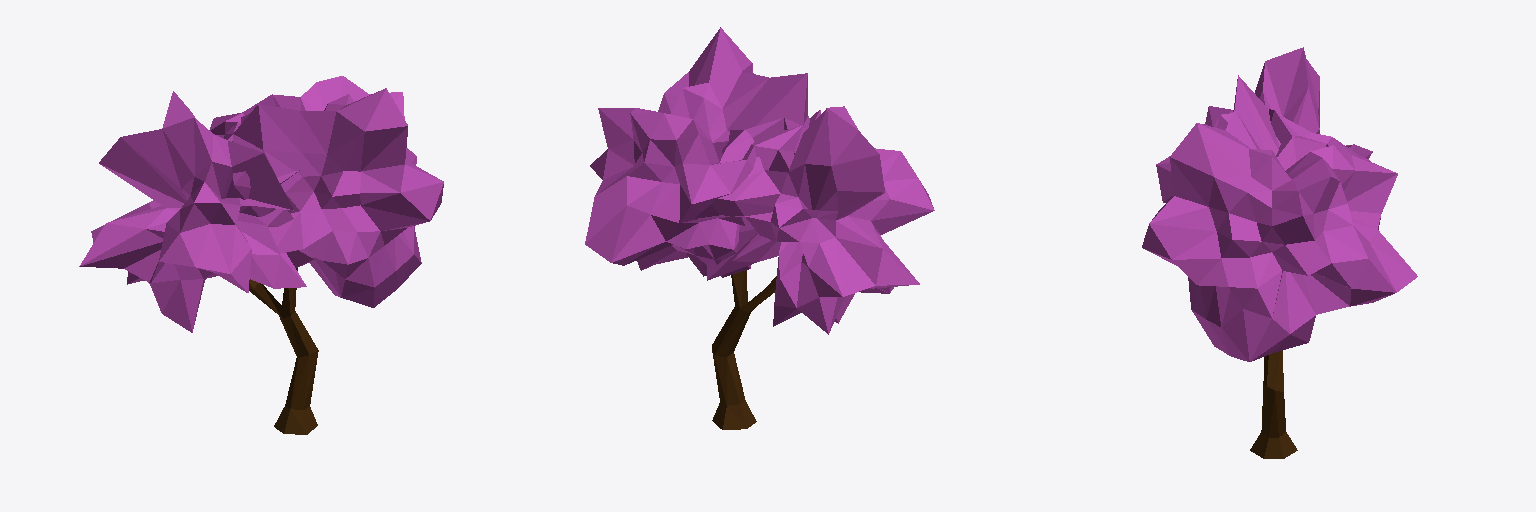
3 renders of one model, left to right at view 1: azimuth 30°, elevation 25°; view 2: azimuth 150°, elevation 25°; view 3: azimuth 270°, elevation 25°, orthographic.
Visible parts, largest first — view 1: Icosphere_Icosphere.001, Icosphere.001_Icosphere.002, TreeStump1_Cube.001; view 2: Icosphere_Icosphere.001, Icosphere.001_Icosphere.002, TreeStump1_Cube.001; view 3: Icosphere_Icosphere.001, Icosphere.001_Icosphere.002, TreeStump1_Cube.001.
Part boxes in pixels (left/top/right/bottom): Icosphere_Icosphere.001: left=209, top=76, right=443, bottom=307; Icosphere.001_Icosphere.002: left=79, top=91, right=306, bottom=332; TreeStump1_Cube.001: left=249, top=268, right=318, bottom=434; Icosphere_Icosphere.001: left=585, top=27, right=809, bottom=277; Icosphere.001_Icosphere.002: left=696, top=106, right=934, bottom=334; TreeStump1_Cube.001: left=712, top=270, right=776, bottom=429; Icosphere_Icosphere.001: left=1142, top=75, right=1417, bottom=361; Icosphere.001_Icosphere.002: left=1156, top=47, right=1372, bottom=202; TreeStump1_Cube.001: left=1250, top=350, right=1297, bottom=458.
Size of the model in its own units: 23.53 by 24.15 by 17.14.
2 materials, 1 textured.